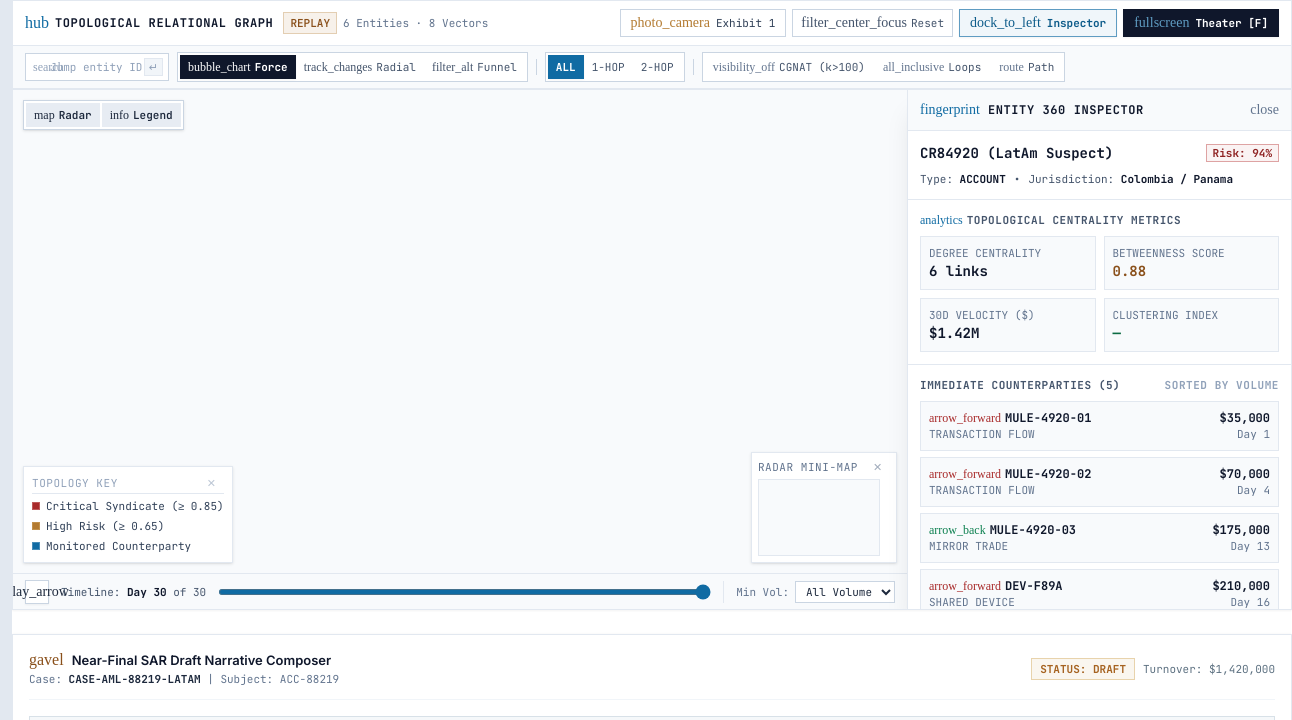
AML Investigator Workstation (User Story 3) › toggles dynamic CGNAT hub suppression
The image size is (1292, 720).
Click the button with aria-label "CGNAT Suppressed": (789, 67) 705,55 -> 873,79
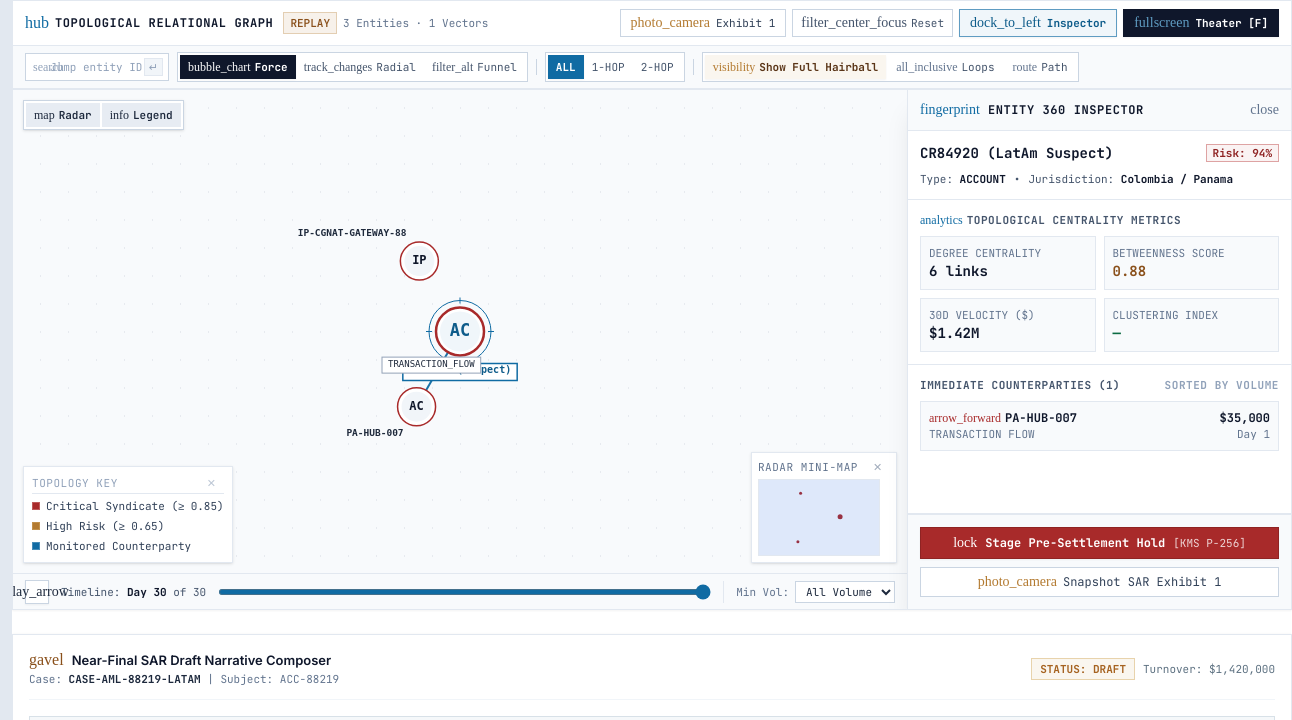
Expected: the text "Show Full Hairball" is shown, 759,59 -> 878,75
